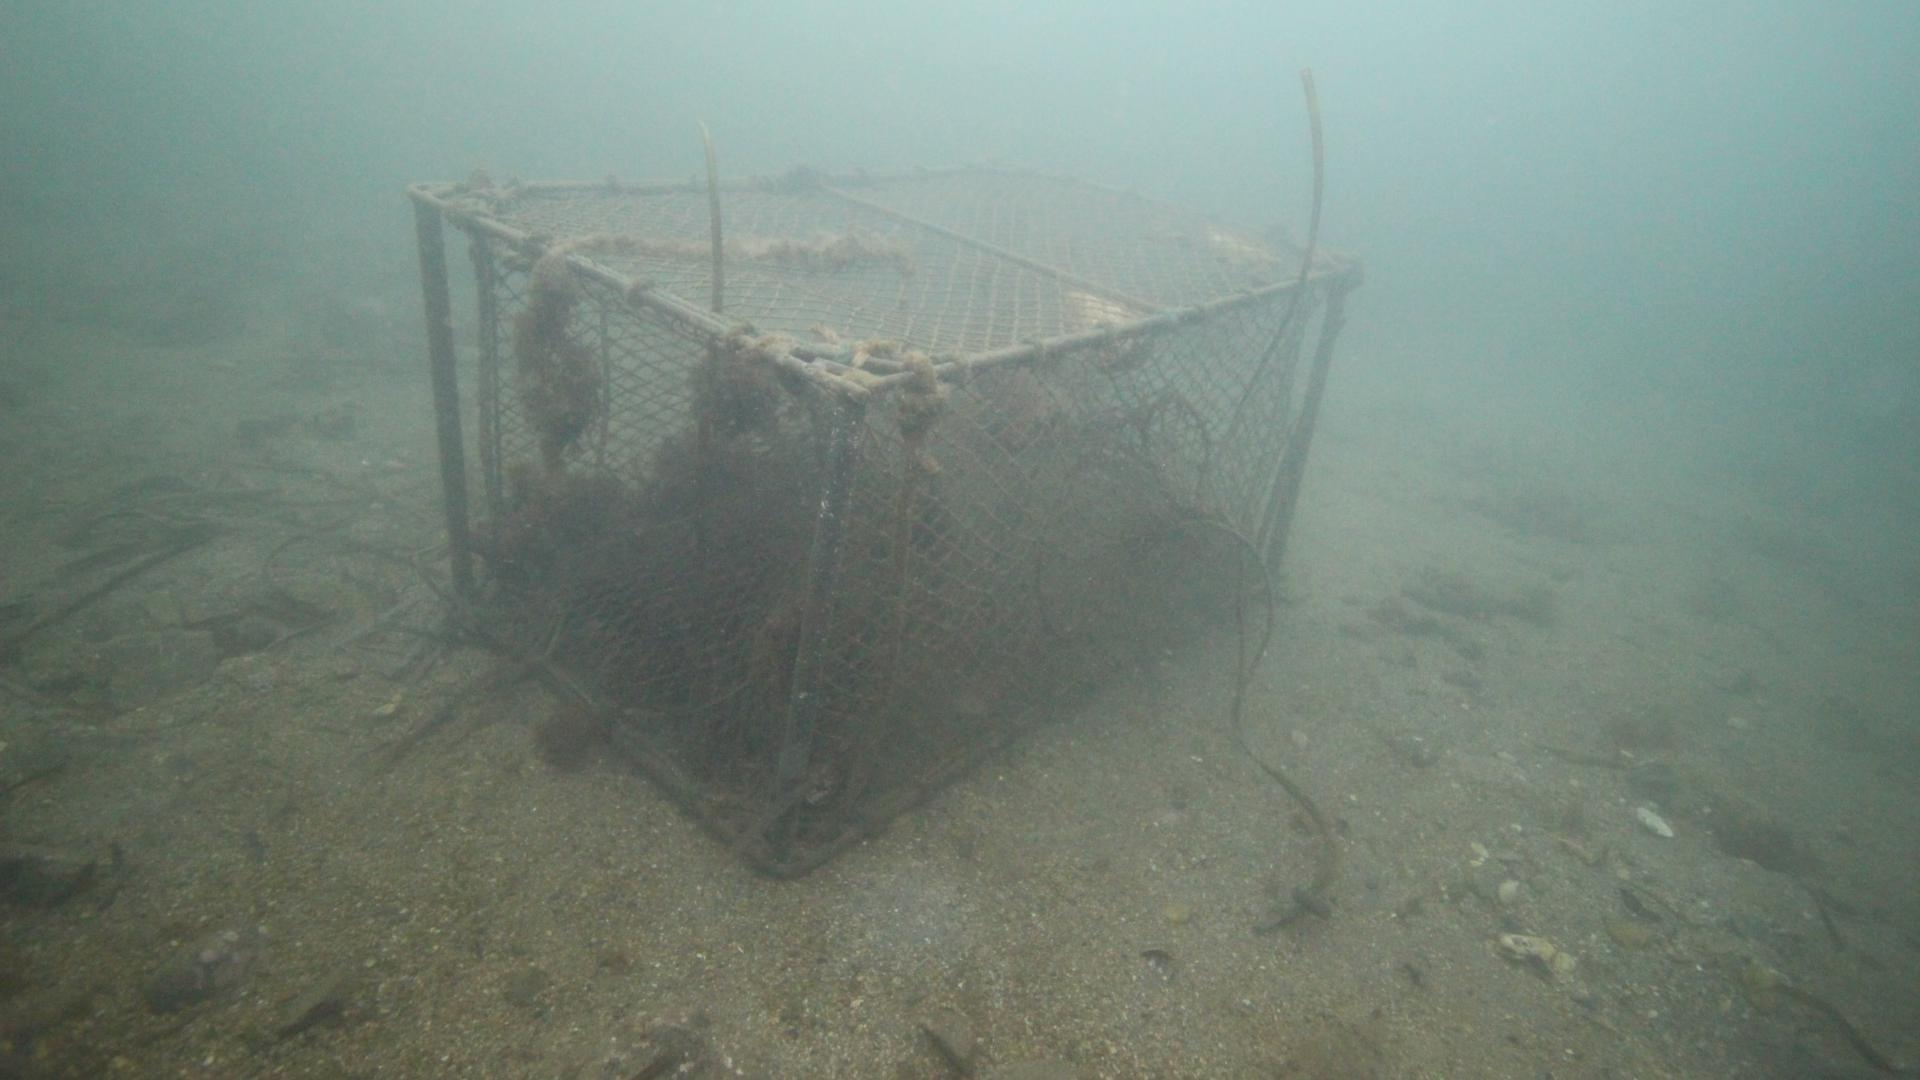rectangular fish trap: (400, 160, 1367, 884)
